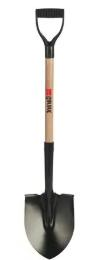PELLE: (0, 0, 85, 260)
